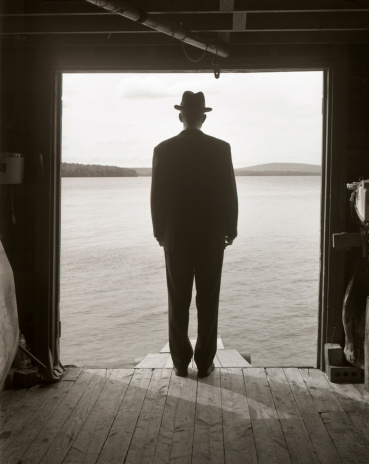em pe: (146, 87, 229, 388)
